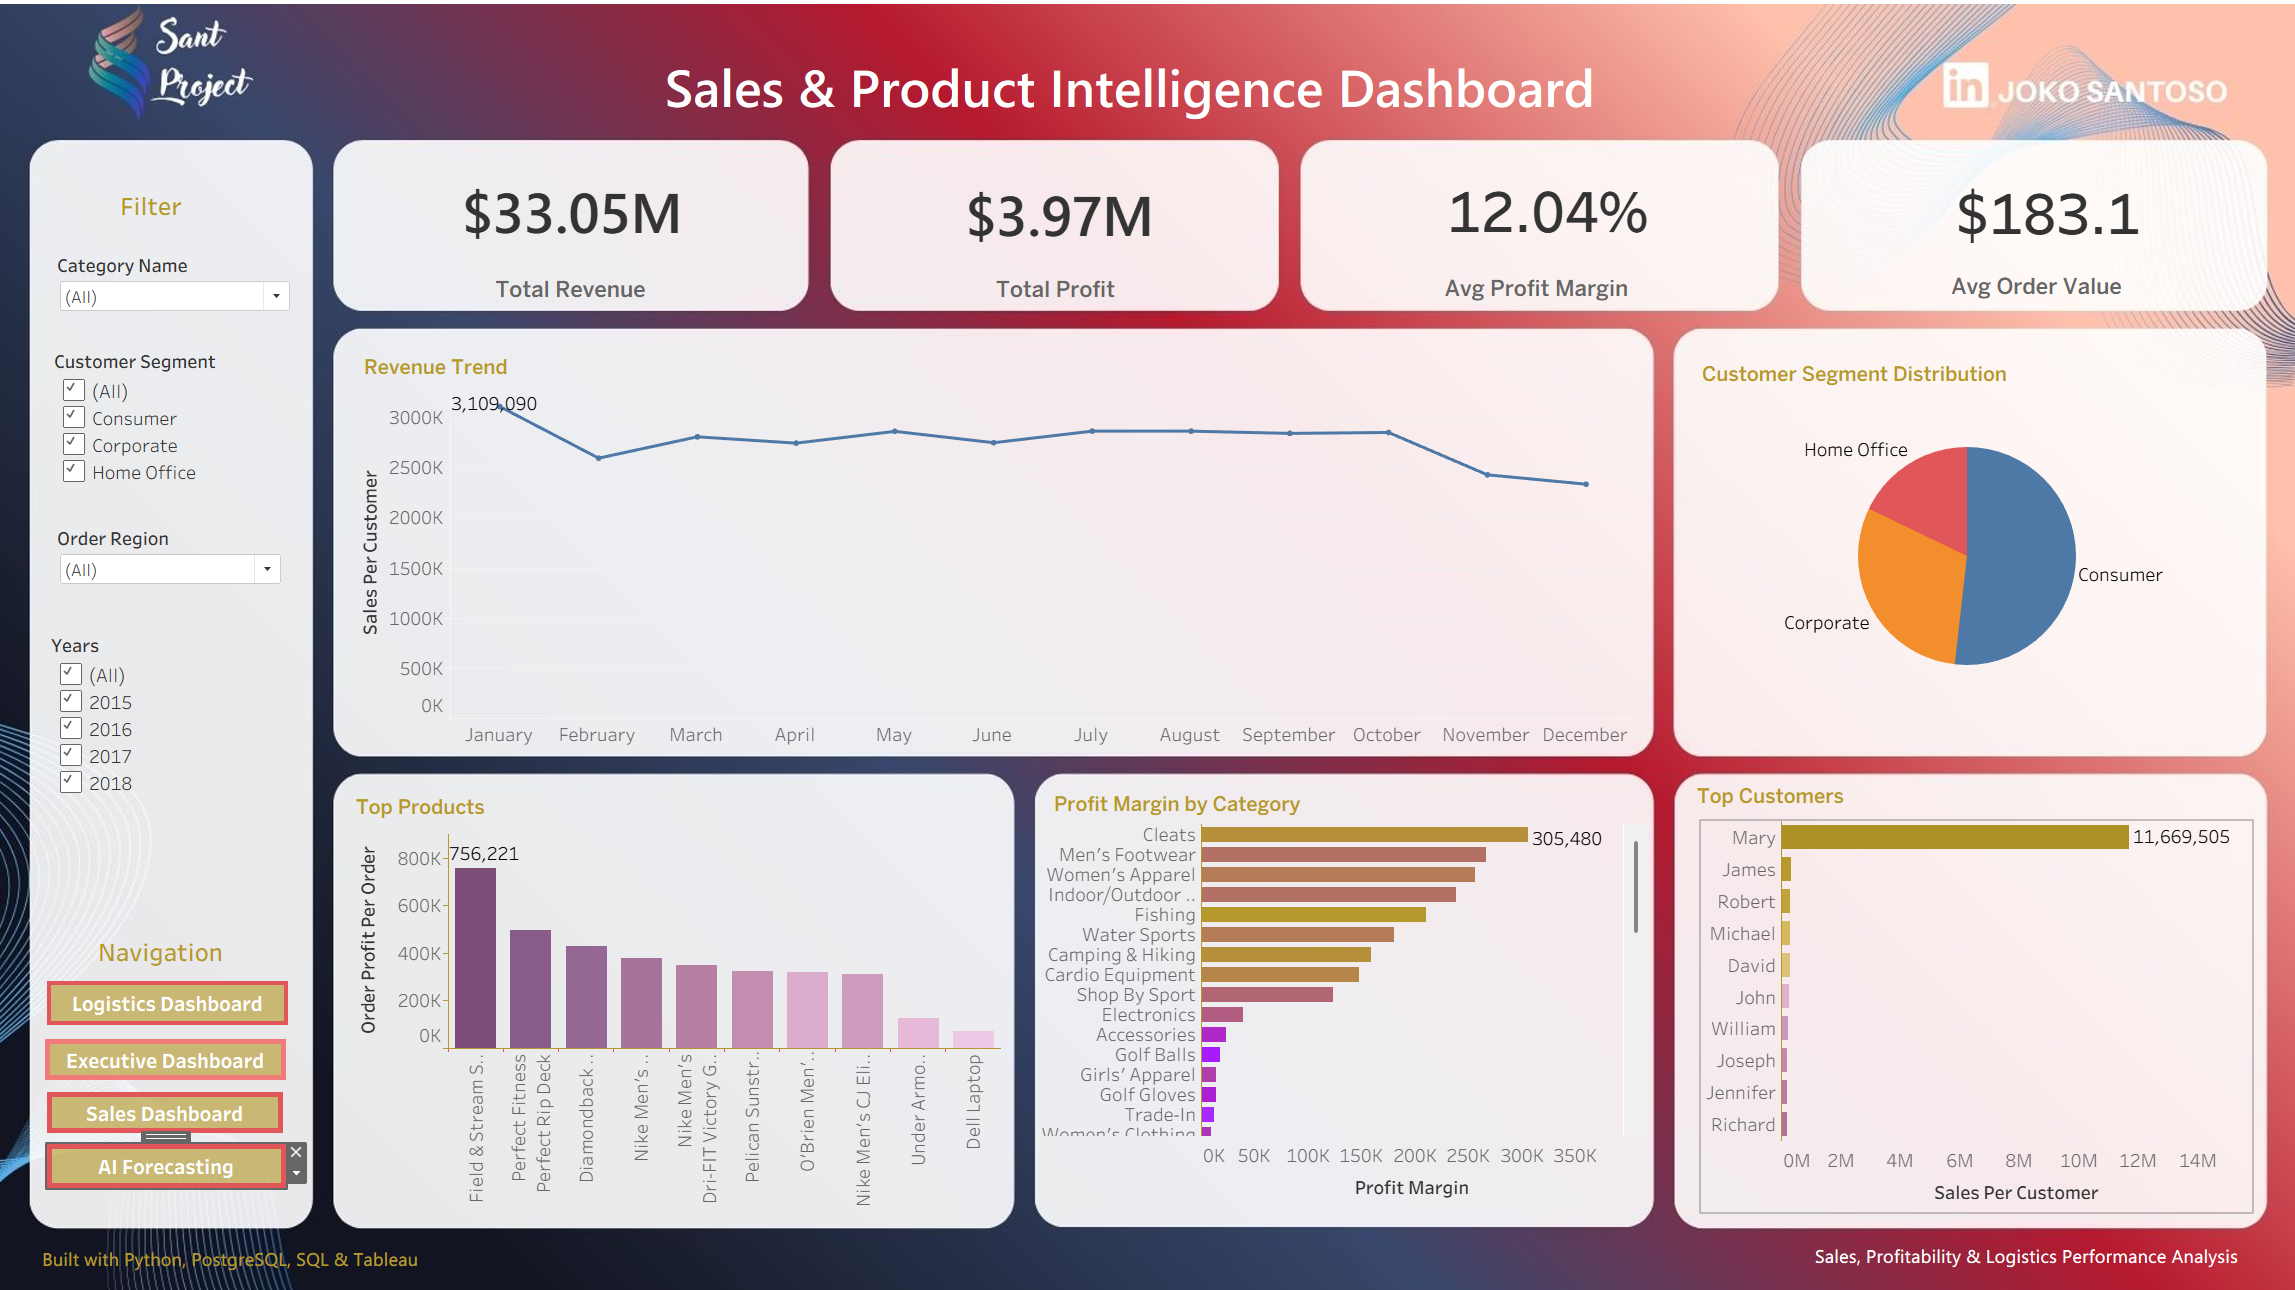

What the dashboard file says about the page in this screenshot:
{"tool":"tableau","page":{"name":"Sales & Product Intelligence Dashboard","canvas":[2320,1360],"ordinal":3},"visuals":[{"type":"text","box":[425.3,86.1,1448.4,127.1]},{"type":"worksheet","title":"KPI - Avg Profit Margin","mark":"Text","box":[1430,235,256,93]},{"type":"worksheet","title":"KPI - Total Sales/ Revenue","mark":"Automatic","box":[472,237,246,92]},{"type":"worksheet","title":"KPI - Avg Order Value","mark":"Text","box":[1946,237,231,92]},{"type":"worksheet","title":"KPI - Total Profit","mark":"Automatic","box":[977,240,210,93]},{"type":"text","box":[107.6,252.1,124.4,33.8]},{"type":"filter","title":"Top Profitable Products","param":"[federated.1vegi2a0ab1bcw127uwzi0l9cpzs].[none:category_name:nk]","box":[76.3,315.7,236.2,93.3]},{"type":"text","box":[1904.1,331,303.1,40]},{"type":"text","box":[1419.2,333.1,272.8,40]},{"type":"text","box":[445.2,334.1,289.5,40]},{"type":"text","box":[951,334.1,246.6,40]},{"type":"worksheet","title":"Customer Segment Distribution","mark":"Pie","box":[1694,401.7,584.2,435.6]},{"type":"text","box":[379.3,408.9,474.4,44.1]},{"type":"filter","title":"Top Profitable Products","param":"[federated.1vegi2a0ab1bcw127uwzi0l9cpzs].[Action (Customer Segment)]","box":[73.1,412,235.1,143.5]},{"type":"text","box":[1717,416.1,474.4,44.1]},{"type":"worksheet","title":"Revenue Trend","mark":"Line","rows":["sales_per_customer"],"cols":["order_date"],"box":[368.9,453,1285.4,357.7]},{"type":"filter","title":"Top Profitable Products","param":"[federated.1vegi2a0ab1bcw127uwzi0l9cpzs].[none:order_region:nk]","box":[76.3,589.3,226.8,127.1]},{"type":"filter","title":"Top Profitable Products","param":"[federated.1vegi2a0ab1bcw127uwzi0l9cpzs].[yr:order_date:ok]","box":[70,695.9,227.8,171.2]},{"type":"text","box":[1711.8,838.3,474.4,44.1]},{"type":"text","box":[1069.1,845.5,474.4,44.1]},{"type":"text","box":[371,848.6,474.4,44.1]},{"type":"worksheet","title":"Top Customers","mark":"Automatic","rows":["customer_fname"],"cols":["sales_per_customer"],"box":[1720.1,885.5,550.7,390.5]},{"type":"worksheet","title":"Profit Margin by Category","mark":"Bar","rows":["category_name"],"cols":["profit_margin"],"box":[1059.7,887.5,607.2,382.3]},{"type":"worksheet","title":"Top Profitable Products","mark":"Automatic","rows":["order_profit_per_order"],"cols":["product_name"],"box":[366.8,897.8,653.1,374.1]},{"type":"text","box":[94.1,998.2,171.4,33.8]},{"type":"dashboard-object","box":[65.8,1045.4,241.4,44.1]},{"type":"dashboard-object","box":[63.8,1102.8,241.4,41]},{"type":"dashboard-object","box":[66,1156,236,41]},{"type":"dashboard-object","box":[66,1208,239,44]},{"type":"text","box":[1775.5,1303.6,484.9,30.7]},{"type":"text","box":[57.5,1306.7,402.3,30.7]}]}

Visuals, with their boxes on the page's 2320x1360 design canvas (x1, y1, x2, y2). These are canvas units, not pixel positions in the 2295x1290 screenshot, which may show the page scaled, cropped or inside an application window:
text: BBox(425, 86, 1874, 213)
"KPI - Avg Profit Margin" worksheet (Text marks): BBox(1430, 235, 1686, 328)
"KPI - Total Sales/ Revenue" worksheet: BBox(472, 237, 718, 329)
"KPI - Avg Order Value" worksheet (Text marks): BBox(1946, 237, 2177, 329)
"KPI - Total Profit" worksheet: BBox(977, 240, 1187, 333)
text: BBox(108, 252, 232, 286)
"Top Profitable Products" filter: BBox(76, 316, 312, 409)
text: BBox(1904, 331, 2207, 371)
text: BBox(1419, 333, 1692, 373)
text: BBox(445, 334, 735, 374)
text: BBox(951, 334, 1198, 374)
"Customer Segment Distribution" worksheet (Pie marks): BBox(1694, 402, 2278, 837)
text: BBox(379, 409, 854, 453)
"Top Profitable Products" filter: BBox(73, 412, 308, 556)
text: BBox(1717, 416, 2191, 460)
"Revenue Trend" worksheet (Line marks): BBox(369, 453, 1654, 811)
"Top Profitable Products" filter: BBox(76, 589, 303, 716)
"Top Profitable Products" filter: BBox(70, 696, 298, 867)
text: BBox(1712, 838, 2186, 882)
text: BBox(1069, 846, 1544, 890)
text: BBox(371, 849, 845, 893)
"Top Customers" worksheet: BBox(1720, 886, 2271, 1276)
"Profit Margin by Category" worksheet (Bar marks): BBox(1060, 888, 1667, 1270)
"Top Profitable Products" worksheet: BBox(367, 898, 1020, 1272)
text: BBox(94, 998, 266, 1032)
dashboard-object: BBox(66, 1045, 307, 1090)
dashboard-object: BBox(64, 1103, 305, 1144)
dashboard-object: BBox(66, 1156, 302, 1197)
dashboard-object: BBox(66, 1208, 305, 1252)
text: BBox(1776, 1304, 2260, 1334)
text: BBox(58, 1307, 460, 1337)
